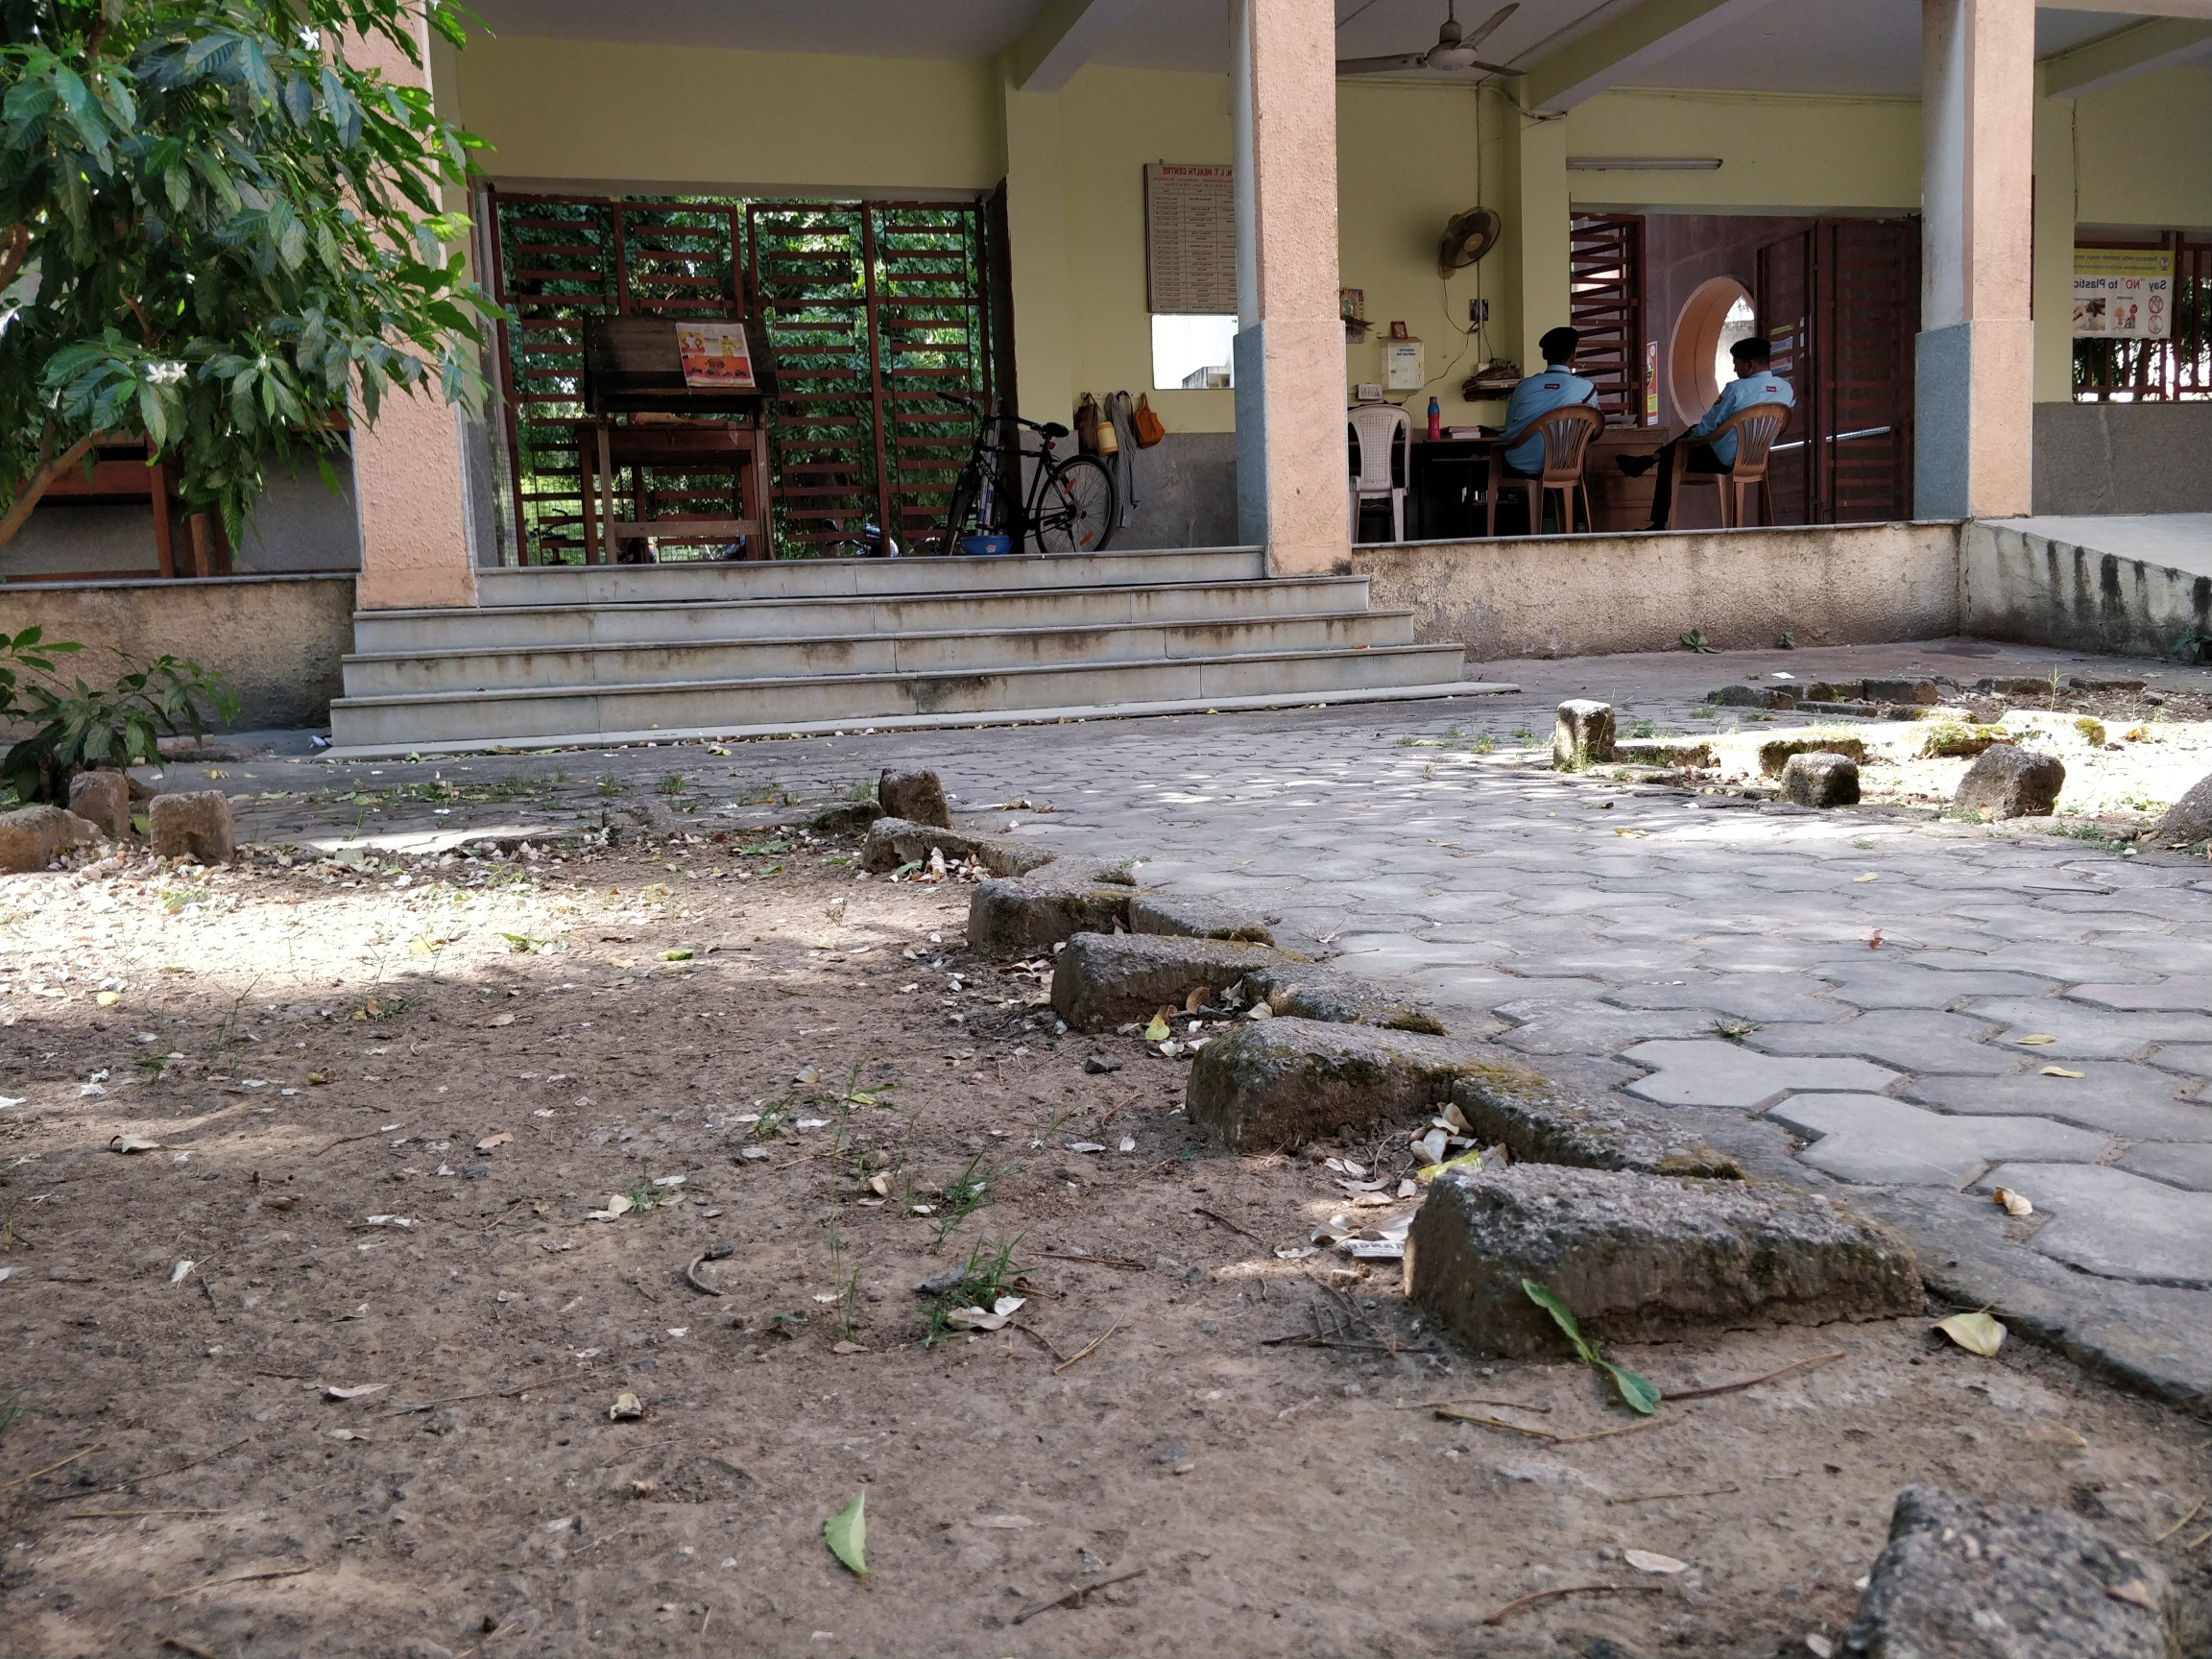stairs_up: (265, 551, 1454, 748)
